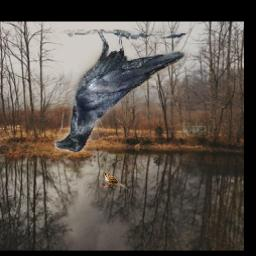Crow: (54, 30, 185, 153)
Sparrow: (103, 172, 127, 188)
